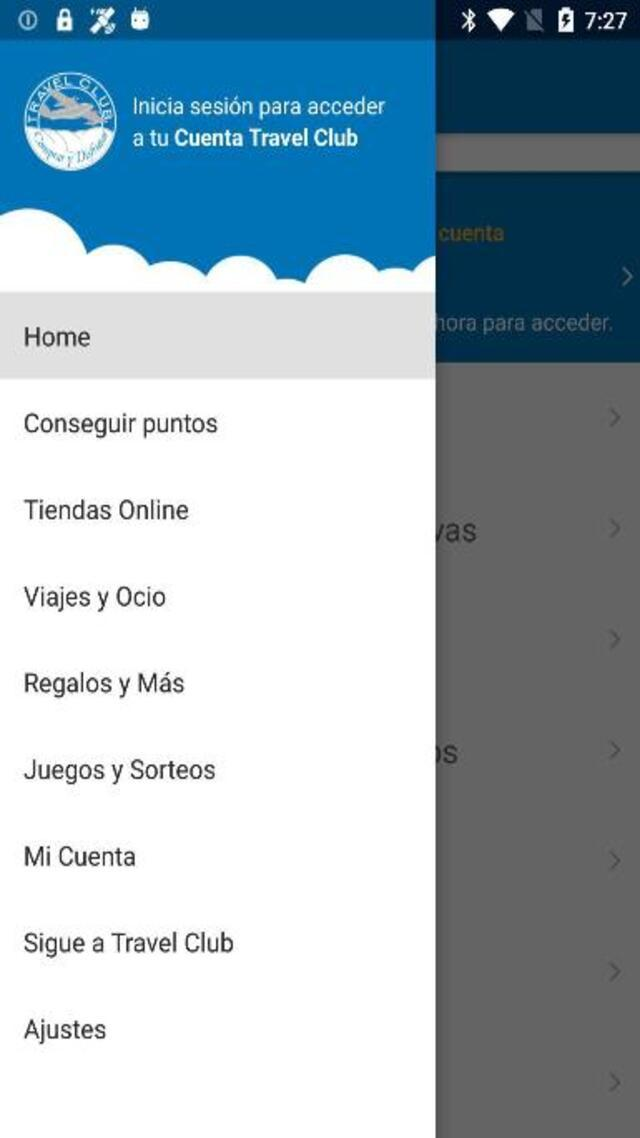Image: (22, 70, 118, 172)
Text: (128, 124, 361, 154), (126, 94, 394, 120), (22, 930, 234, 958), (24, 758, 215, 785), (25, 412, 218, 438), (24, 670, 185, 698), (23, 585, 166, 613), (23, 497, 190, 520), (26, 844, 137, 867), (22, 1019, 108, 1044), (23, 325, 90, 346)
